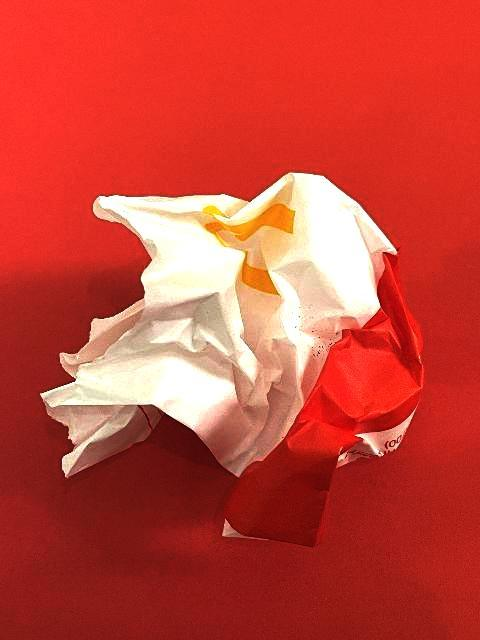paperbag: (37, 170, 427, 552)
